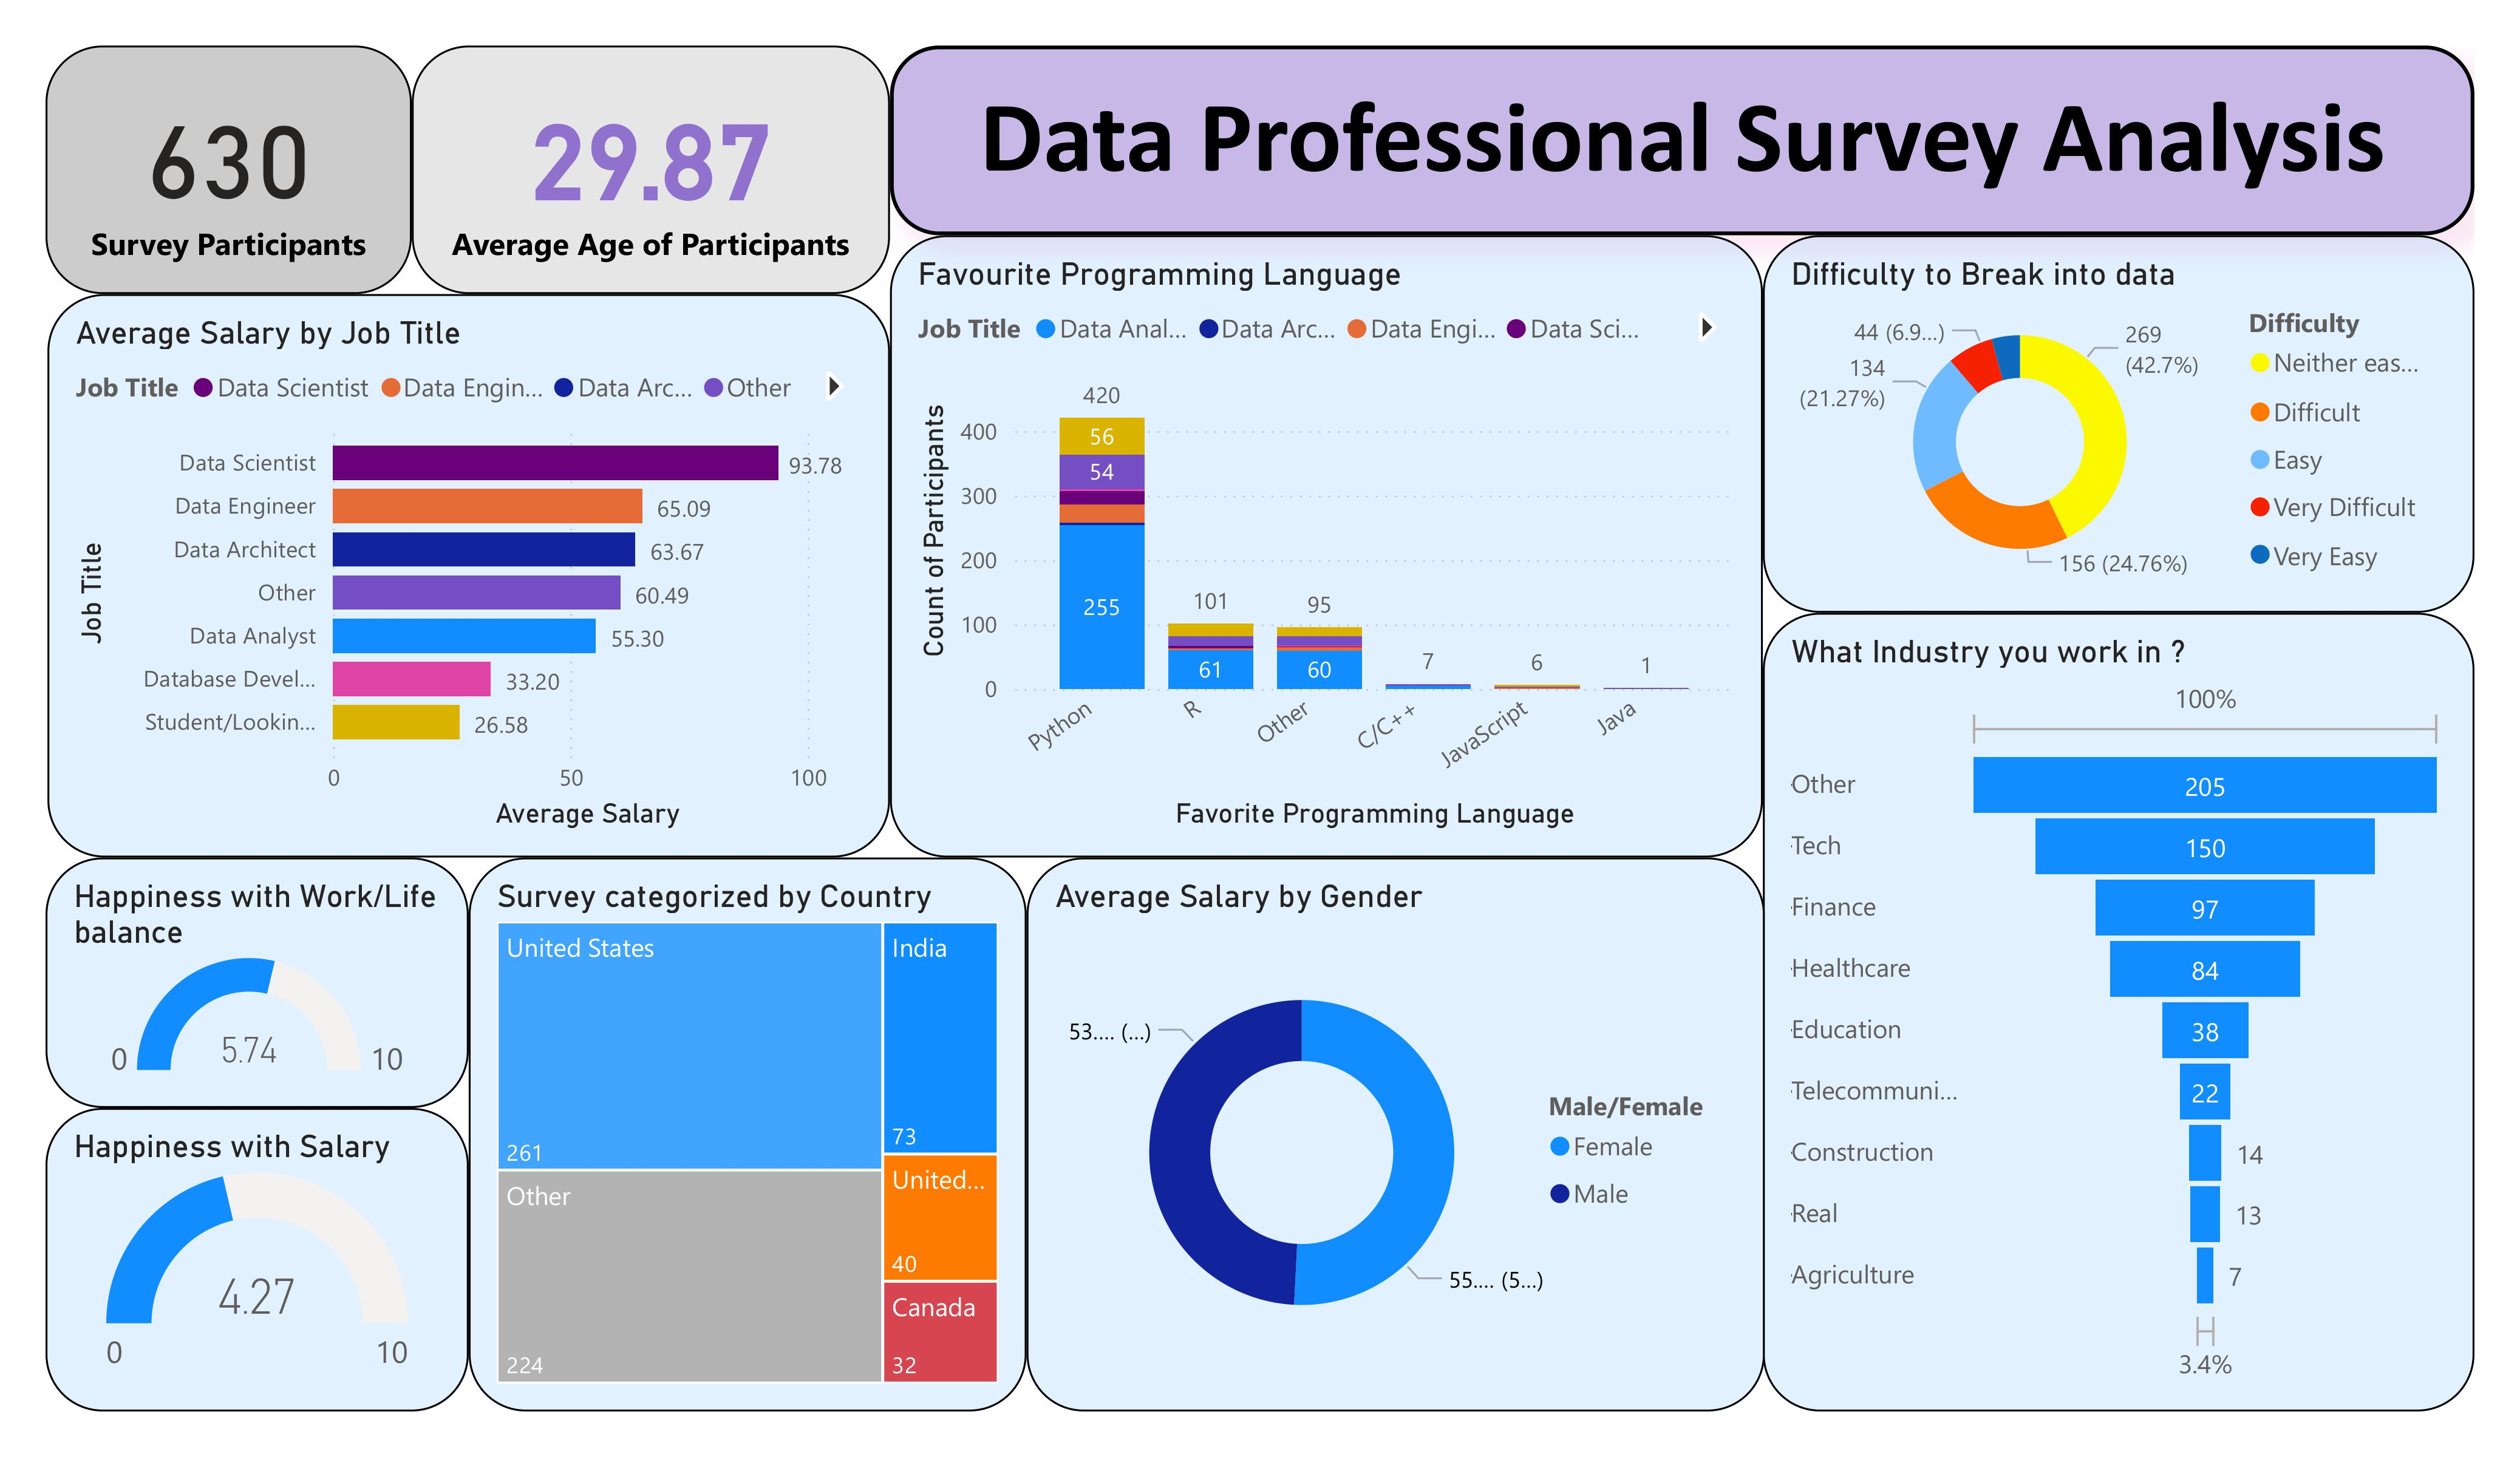

Layout of this report page (visuals, bound fields, positions):
{"tool":"powerbi","page":{"name":"Page 1","canvas":[1280,720],"ordinal":0},"visuals":[{"type":"textbox","box":[444.6,0,835.4,99.7],"z":0},{"type":"card","fields":{"Values":["CountNonNull(Data Professional Survey.Unique ID)"]},"box":[0,0,192.8,131.1],"z":1000},{"type":"card","fields":{"Values":["Avg(Data Professional Survey.Q10 - Current Age)"]},"box":[192.8,0,251.8,131.1],"z":2000},{"type":"barChart","title":"Average Salary by Job Title","fields":{"Category":["Data Professional Survey.Q1 - Which Title Best Fits your Current Role?.1"],"Y":["Avg(Data Professional Survey.Average Salary)"],"Series":["Data Professional Survey.Q1 - Which Title Best Fits your Current Role?.1"]},"box":[1.3,131.1,443.3,296.4],"z":3000},{"type":"columnChart","title":"Favourite Programming Language","fields":{"Category":["Data Professional Survey.Q5 - Favorite Programming Language.1"],"Y":["CountNonNull(Data Professional Survey.Unique ID)"],"Series":["Data Professional Survey.Q1 - Which Title Best Fits your Current Role?.1"]},"box":[444.6,99.7,460.3,327.9],"z":4000},{"type":"treemap","title":"Survey categorized by Country","fields":{"Group":["Data Professional Survey.Q11 - Which Country do you live in?.1"],"Values":["CountNonNull(Data Professional Survey.Q11 - Which Country do you live in?.1)"]},"box":[223,427.5,293.8,292.5],"z":5000},{"type":"gauge","title":"Happiness with Work/Life balance","fields":{"Y":["Avg(Data Professional Survey.Q6 - How Happy are you in your Current Position with the following? (Work/Life Balance))"],"MinValue":["Min(Data Professional Survey.Q6 - How Happy are you in your Current Position with the following? (Work/Life Balance))"],"MaxValue":["Max(Data Professional Survey.Q6 - How Happy are you in your Current Position with the following? (Work/Life Balance))"]},"box":[0,427.5,223,132.5],"z":6000},{"type":"gauge","title":"Happiness with Salary","fields":{"Y":["Avg(Data Professional Survey.Q6 - How Happy are you in your Current Position with the following? (Salary))"],"MinValue":["Min(Data Professional Survey.Q6 - How Happy are you in your Current Position with the following? (Salary))"],"MaxValue":["Max(Data Professional Survey.Q6 - How Happy are you in your Current Position with the following? (Salary))1"]},"box":[0,560,223,160],"z":7000},{"type":"donutChart","title":"Average Salary by Gender","fields":{"Category":["Data Professional Survey.Q9 - Male/Female?"],"Y":["Avg(Data Professional Survey.Average Salary)"]},"box":[516.7,427.5,389.5,292.5],"z":8000},{"type":"donutChart","title":"Difficulty to Break into data","fields":{"Category":["Data Professional Survey.Q7 - How difficult was it for you to break into Data?"],"Y":["CountNonNull(Data Professional Survey.Unique ID)"]},"box":[904.9,99.7,375.1,199.3],"z":9000},{"type":"funnel","title":"What Industry you work in ?","fields":{"Category":["Data Professional Survey.Q4 - What Industry do you work in?.1"],"Y":["CountNonNull(Data Professional Survey.Unique ID)"]},"box":[904.9,299,375.1,421],"z":10000}]}

Visuals, with their boxes in screenshot pixels (x1, y1, x2, y2):
textbox: pyautogui.locateOnScreen(891, 46, 2456, 233)
card - CountNonNull(Data Professional Survey.Unique ID): pyautogui.locateOnScreen(59, 46, 420, 291)
card - Avg(Data Professional Survey.Q10 - Current Age): pyautogui.locateOnScreen(420, 46, 891, 291)
"Average Salary by Job Title" barChart: pyautogui.locateOnScreen(61, 291, 891, 846)
"Favourite Programming Language" columnChart: pyautogui.locateOnScreen(891, 233, 1754, 846)
"Survey categorized by Country" treemap: pyautogui.locateOnScreen(477, 846, 1027, 1394)
"Happiness with Work/Life balance" gauge: pyautogui.locateOnScreen(59, 846, 477, 1095)
"Happiness with Salary" gauge: pyautogui.locateOnScreen(59, 1095, 477, 1394)
"Average Salary by Gender" donutChart: pyautogui.locateOnScreen(1027, 846, 1756, 1394)
"Difficulty to Break into data" donutChart: pyautogui.locateOnScreen(1754, 233, 2456, 606)
"What Industry you work in ?" funnel: pyautogui.locateOnScreen(1754, 606, 2456, 1394)
